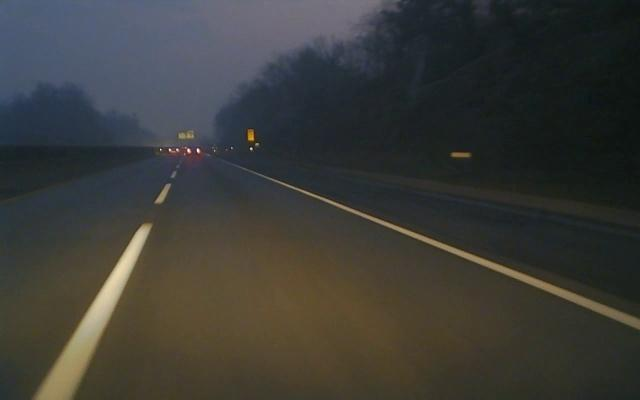lane: (239, 166, 639, 332), (30, 159, 181, 400)
